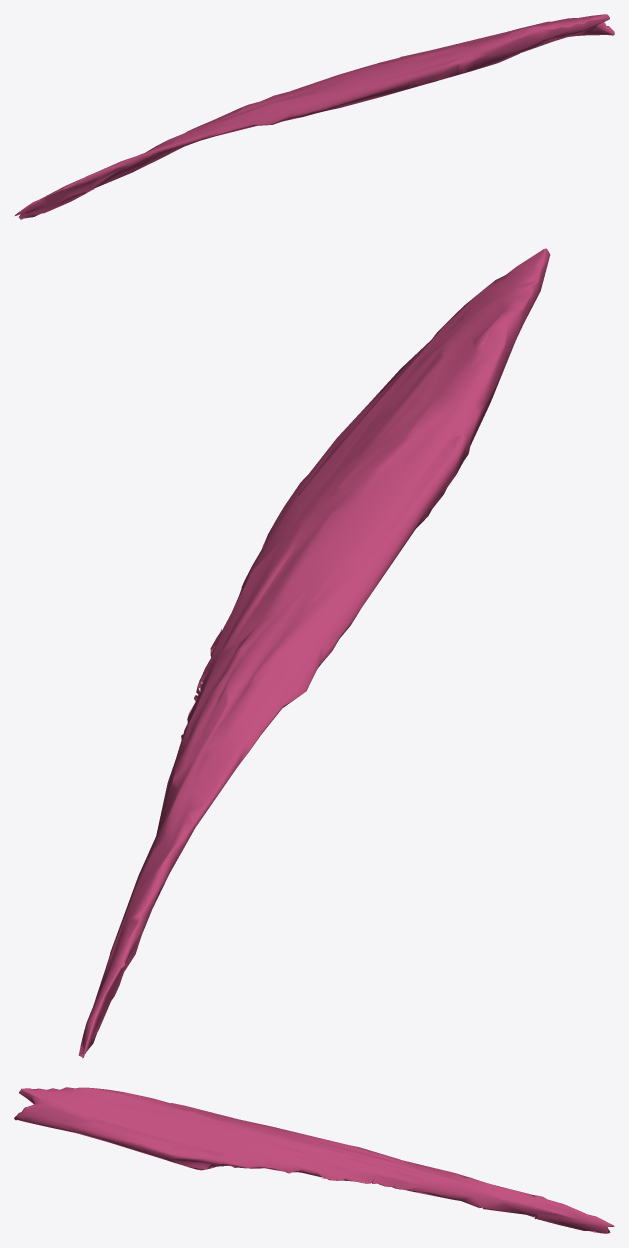
The picture shows the model from 3 angles, top to bottom: view 1: azimuth 90°, elevation 25°; view 2: azimuth 150°, elevation 25°; view 3: azimuth 270°, elevation 25°; orthographic projection. The views are drawn at different scales.
Visible parts, largest first — view 1: 右侧尺侧腕屈肌尺头; view 2: 右侧尺侧腕屈肌尺头; view 3: 右侧尺侧腕屈肌尺头.
Boxes of the visible parts, bbox=[...] form: 右侧尺侧腕屈肌尺头: bbox=[14, 14, 614, 219]; 右侧尺侧腕屈肌尺头: bbox=[78, 248, 550, 1058]; 右侧尺侧腕屈肌尺头: bbox=[14, 1087, 614, 1233].
Bounding box in the file's own units: 0.0614 × 0.1043 × 0.3243.
